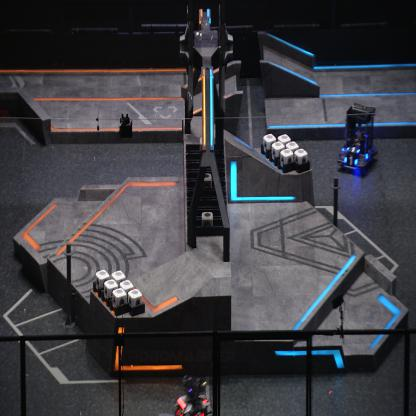car: (336, 101, 379, 175), (172, 375, 210, 416)
